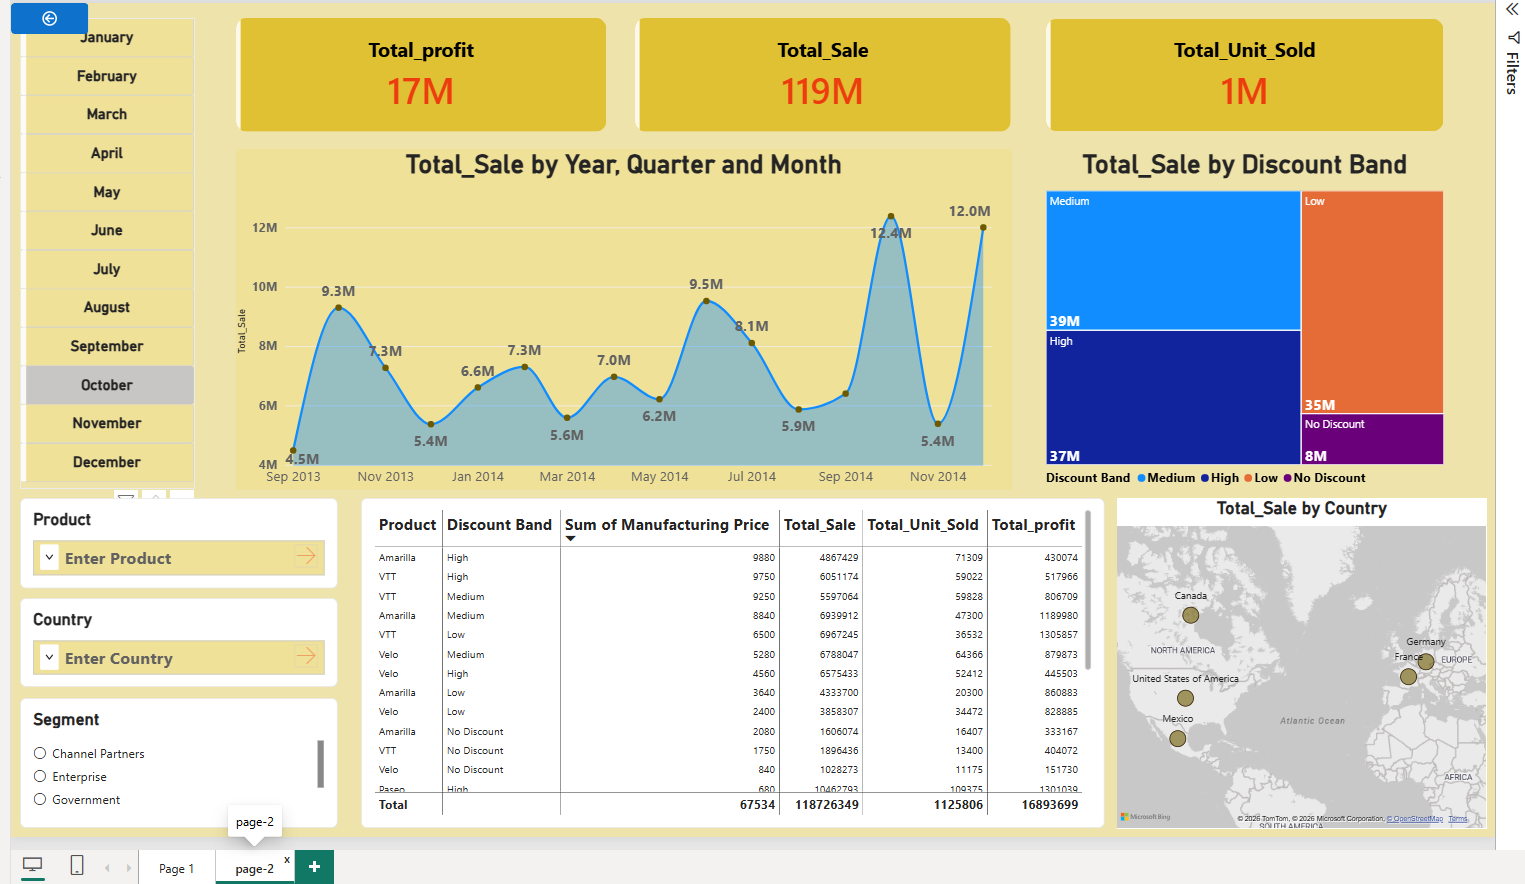

The page's visual inventory and layout, read from the dashboard file:
{"tool":"powerbi","page":{"name":"page-2","canvas":[1920,1080],"ordinal":1},"visuals":[{"type":"cardVisual","fields":{"Data":["Measure.Total_profit"]},"box":[291.2,19.7,479.2,147.1],"z":0},{"type":"cardVisual","fields":{"Data":["Measure.Total_Sale"]},"box":[806.8,19.7,486.8,147.1],"z":1000},{"type":"cardVisual","fields":{"Data":["Measure.Total_Unit_Sold"]},"box":[1339.1,21.2,514.1,145.6],"z":2000},{"type":"advancedSlicerVisual","fields":{"Values":["Sampledata xlsx.Date.Variation.Date Hierarchy.Month"]},"box":[12.1,19.7,226,609.7],"z":3000},{"type":"textSlicer","fields":{"Values":["Sampledata xlsx.Product"]},"box":[12.1,640,411,116.8],"z":4000},{"type":"textSlicer","fields":{"Values":["Sampledata xlsx.Country"]},"box":[12.1,770.4,411,115.3],"z":5000},{"type":"listSlicer","fields":{"Values":["Sampledata xlsx.Segment"]},"box":[12.1,899.3,411,168.3],"z":6000},{"type":"areaChart","fields":{"Category":["Sampledata xlsx.Date.Variation.Date Hierarchy.Year","Sampledata xlsx.Date.Variation.Date Hierarchy.Quarter","Sampledata xlsx.Date.Variation.Date Hierarchy.Month"],"Y":["Measure.Total_Sale"]},"box":[290.7,189.3,1003.9,440.6],"z":7000},{"type":"treemap","fields":{"Group":["Sampledata xlsx.Discount Band"],"Values":["Measure.Total_Sale"]},"box":[1338.5,189.3,514.8,440.6],"z":8000},{"type":"tableEx","fields":{"Values":["Sampledata xlsx.Product","Sampledata xlsx.Discount Band","Sum(Sampledata xlsx.Manufacturing Price)","Measure.Total_Sale","Measure.Total_Unit_Sold","Measure.Total_profit"]},"box":[452.7,640.5,961.5,427],"z":9000},{"type":"actionButton","box":[0,0,100,40],"z":10000},{"type":"map","fields":{"Category":["Sampledata xlsx.Country"],"Y":["Measure.Total_Sale"]},"box":[1430.9,640.5,478.5,427],"z":11000}]}

Visuals, with their boxes on the page's 1920x1080 design canvas (x1, y1, x2, y2). These are canvas units, not pixel positions in the 1525x884 screenshot, which may show the page scaled, cropped or inside an application window:
cardVisual - Measure.Total_profit: (291, 20, 770, 167)
cardVisual - Measure.Total_Sale: (807, 20, 1294, 167)
cardVisual - Measure.Total_Unit_Sold: (1339, 21, 1853, 167)
advancedSlicerVisual - Sampledata xlsx.Date.Variation.Date Hierarchy.Month: (12, 20, 238, 629)
textSlicer - Sampledata xlsx.Product: (12, 640, 423, 757)
textSlicer - Sampledata xlsx.Country: (12, 770, 423, 886)
listSlicer - Sampledata xlsx.Segment: (12, 899, 423, 1068)
areaChart - Sampledata xlsx.Date.Variation.Date Hierarchy.Year x Sampledata xlsx.Date.Variation.Date Hierarchy.Quarter: (291, 189, 1295, 630)
treemap - Sampledata xlsx.Discount Band x Measure.Total_Sale: (1338, 189, 1853, 630)
tableEx - Sampledata xlsx.Product x Sampledata xlsx.Discount Band: (453, 640, 1414, 1068)
actionButton: (0, 0, 100, 40)
map - Sampledata xlsx.Country x Measure.Total_Sale: (1431, 640, 1909, 1068)
